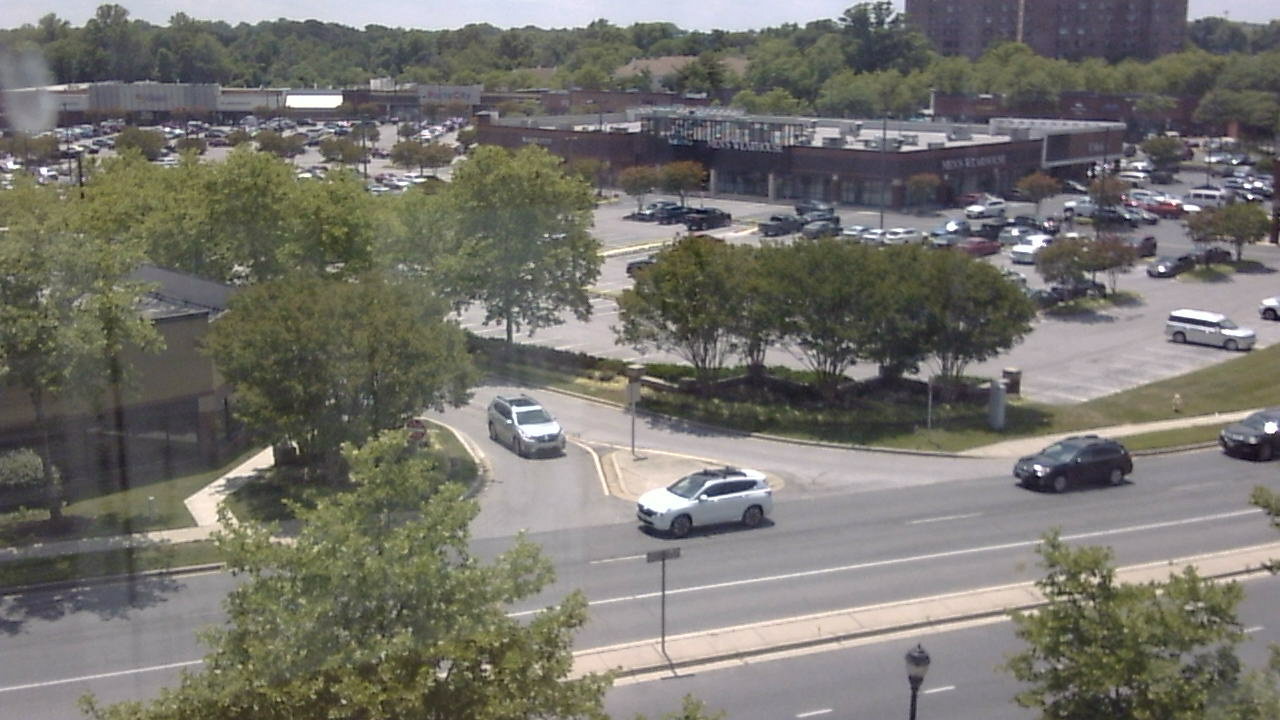Car: (992, 426, 1153, 512), (474, 380, 601, 487), (625, 461, 784, 534), (1206, 412, 1280, 476)
